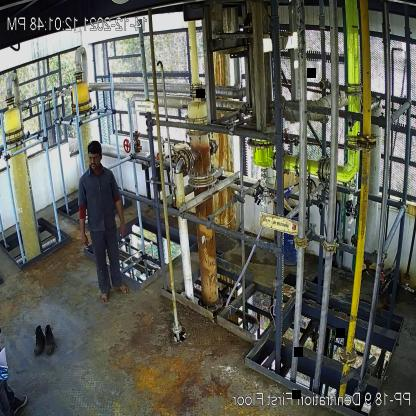no_shoes: (114, 284, 130, 294), (101, 292, 111, 305)
shoes: (42, 323, 56, 356), (32, 326, 44, 354)
